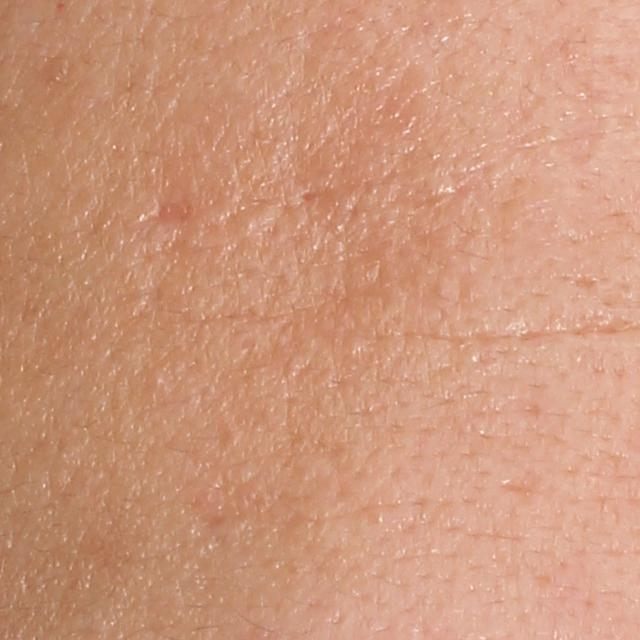atrophic_scar: (530, 44, 607, 168), (139, 195, 199, 224), (505, 467, 548, 506)
